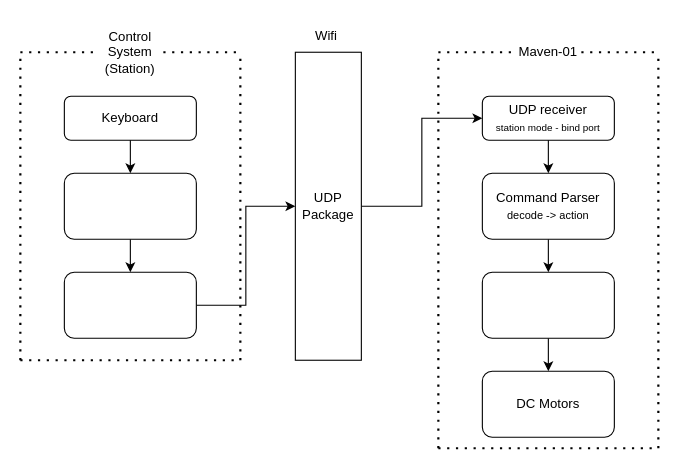
The diagram is 679 pixels wide and 469 high, and some of its shapes have lost their labels. The centre of each missing label's shape, as x and y in pixels:
"Control GUI Parse key" belongs at point 129,205.
"Motor driver PWM - GIPO (L298N)" belongs at point 547,304.
"UDP socket - port xxxx" belongs at point 129,304.
